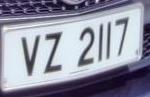1: (103, 16, 114, 66), (98, 19, 109, 67)
2: (78, 22, 98, 72)
7: (114, 13, 131, 62)
V: (18, 31, 43, 78)
Z: (42, 26, 67, 78)
